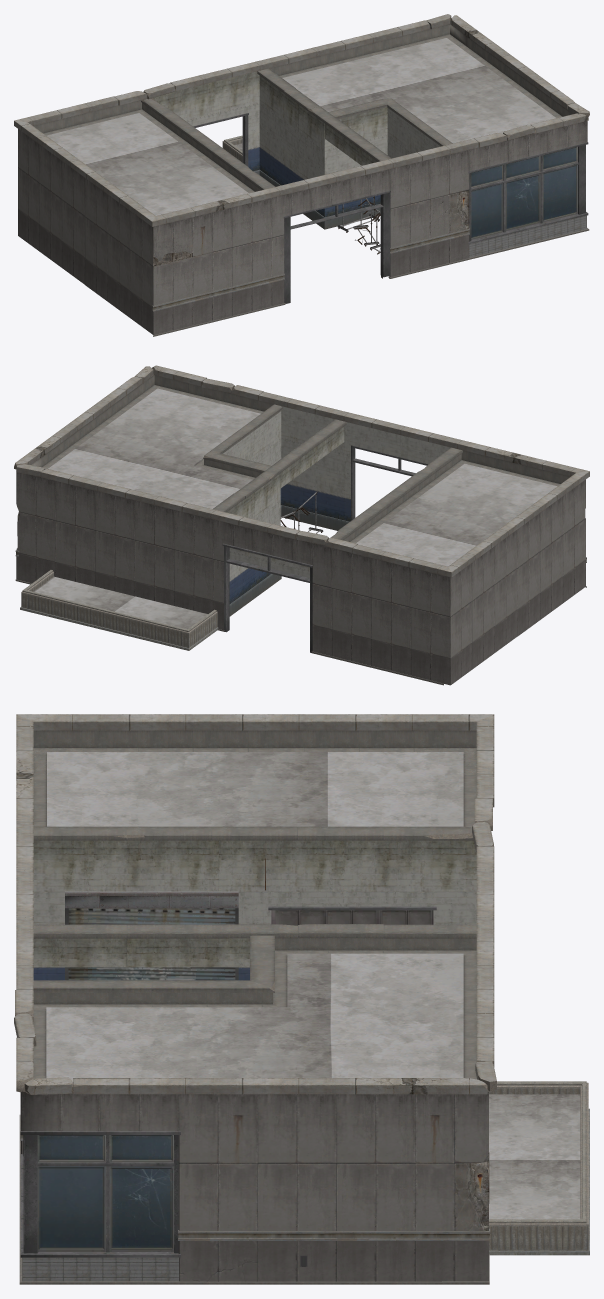
File: House_04.fbx
3 views of the same model, one above another, from view 1: azimuth 30°, elevation 25°; view 2: azimuth 150°, elevation 25°; view 3: azimuth 270°, elevation 25° (orthographic). The views are drawn at different scales.
Visible parts, largest first — view 1: Hotel_STR_House_04; view 2: Hotel_STR_House_04; view 3: Hotel_STR_House_04.
Part boxes in pixels (<box>): Hotel_STR_House_04: <box>14,14,589,336</box>; Hotel_STR_House_04: <box>14,365,589,685</box>; Hotel_STR_House_04: <box>14,714,589,1284</box>.
Size of the model in its own units: 1786 by 450 by 1169.
2 materials, 2 textured.
